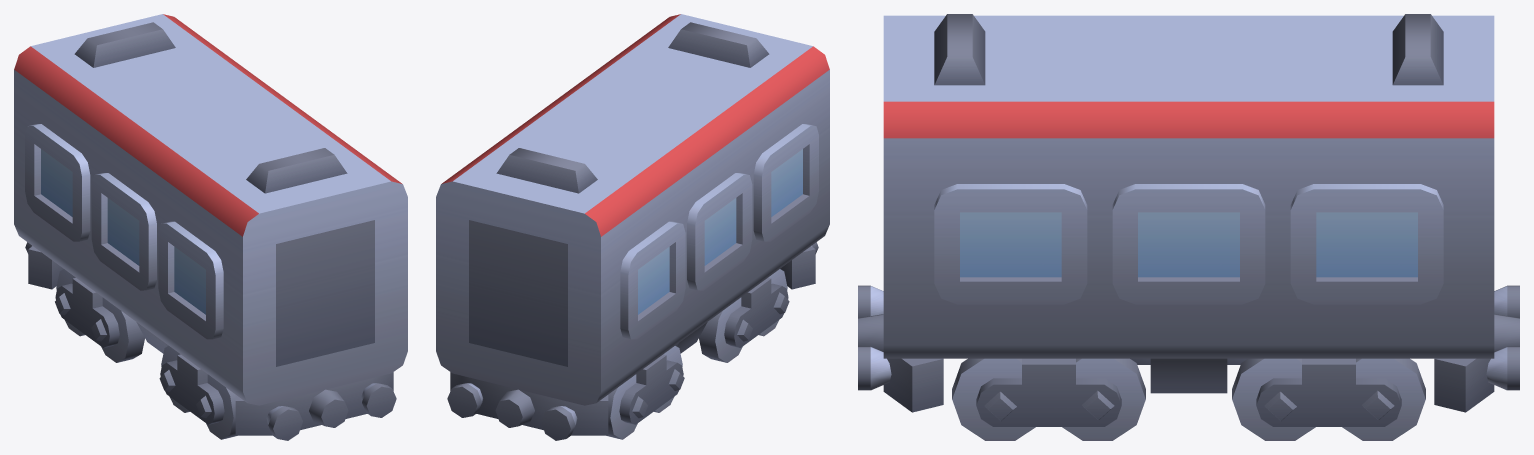
Rendered from kenney-train-train-electric-subway-b.glb.
3 views of the same model, side by side, from view 1: azimuth 30°, elevation 25°; view 2: azimuth 150°, elevation 25°; view 3: azimuth 270°, elevation 25° (orthographic). The views are drawn at different scales.
Parts seen in each view (by area): view 1: train-electric-subway-b; view 2: train-electric-subway-b; view 3: train-electric-subway-b.
Part boxes in pixels (x1,y1,x2,y2): train-electric-subway-b: (14,14,407,440); train-electric-subway-b: (436,14,829,440); train-electric-subway-b: (858,14,1519,440).
Size of the model in its own units: 1.1 by 1.57 by 2.6.
1 material, 1 textured.
